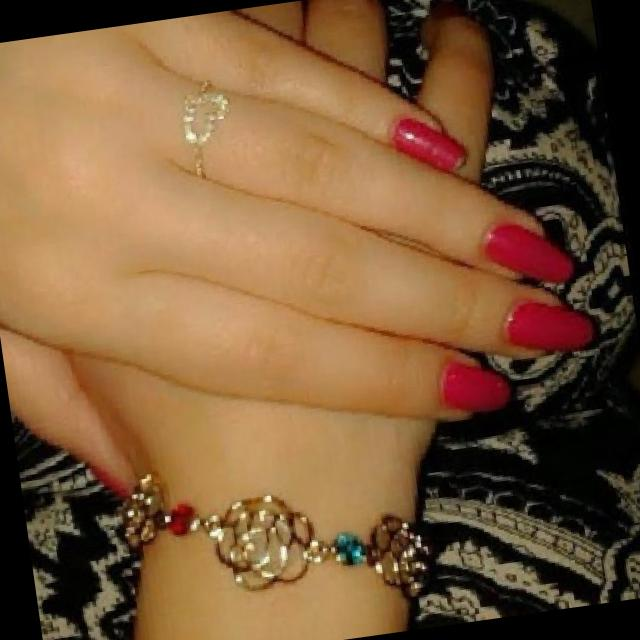Nail: (483, 224, 571, 281), (504, 300, 592, 351), (389, 119, 464, 171), (439, 364, 509, 407)
